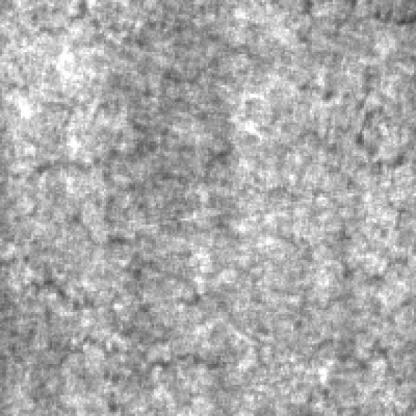crazing: (23, 91, 229, 410), (18, 0, 408, 106)
